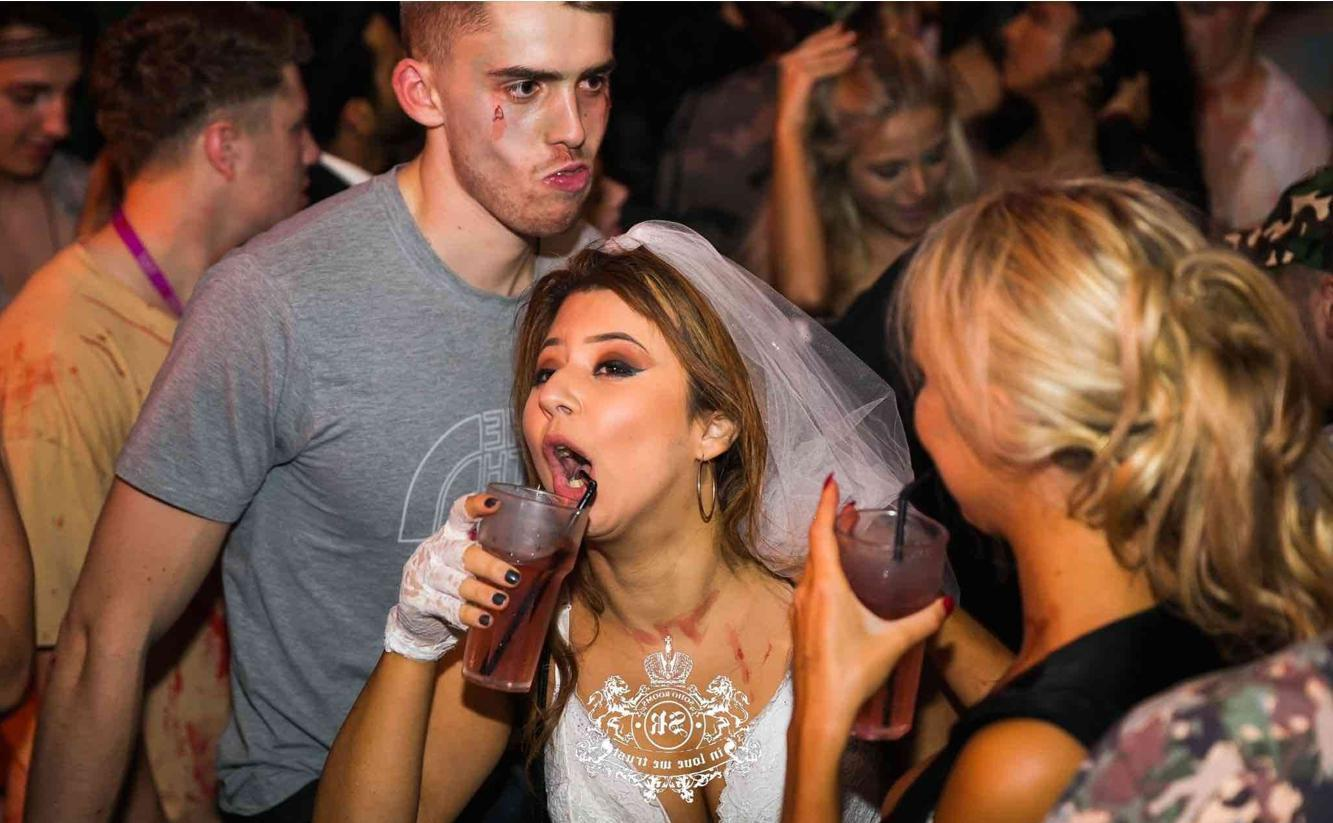Drunk: (522, 294, 691, 540), (462, 9, 608, 234)
